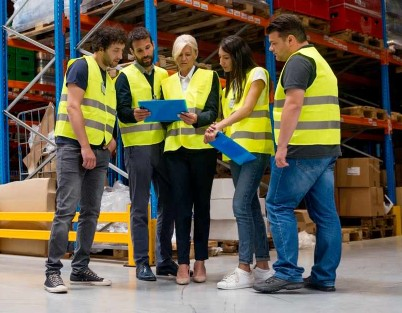worker: (269, 18, 341, 146), (216, 35, 274, 155), (55, 35, 115, 147), (163, 35, 216, 150), (116, 34, 163, 146)
